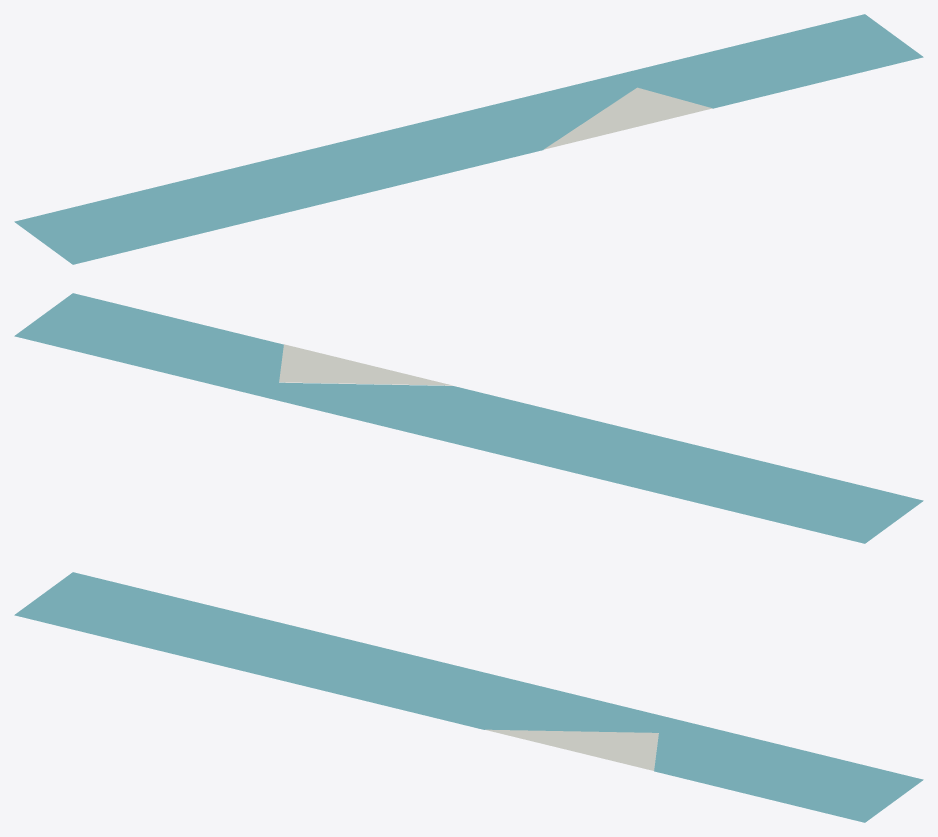
3 views of the same model, one above another, from view 1: azimuth 30°, elevation 25°; view 2: azimuth 150°, elevation 25°; view 3: azimuth 330°, elevation 25° (orthographic).
Visible parts, largest first — view 1: city; view 2: city; view 3: city.
Boxes of the visible parts, x1,y1,x2,y2 form: city: [14, 14, 923, 264]; city: [14, 293, 923, 543]; city: [14, 572, 923, 822].
Bounding box in the file's own units: 500 × 0.18 × 60.
